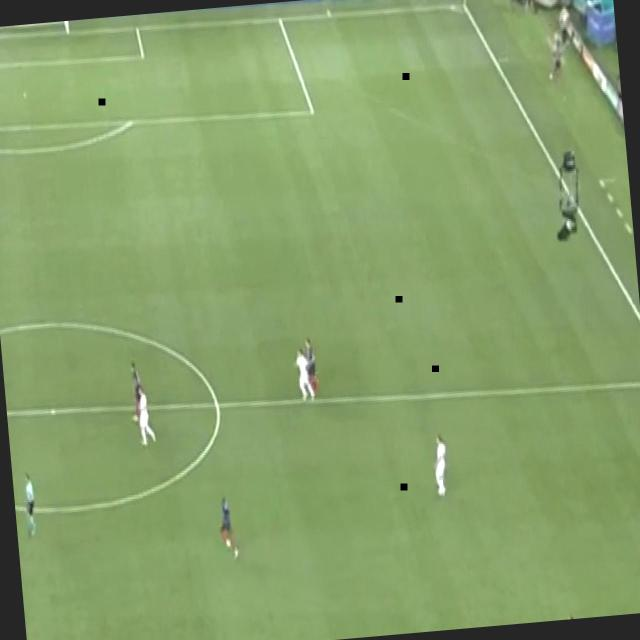ball: (547, 70, 554, 80)
player-white: (217, 495, 240, 565), (134, 385, 158, 448), (291, 345, 317, 403), (431, 431, 451, 499), (22, 470, 40, 539), (302, 336, 322, 395), (127, 359, 143, 425)
